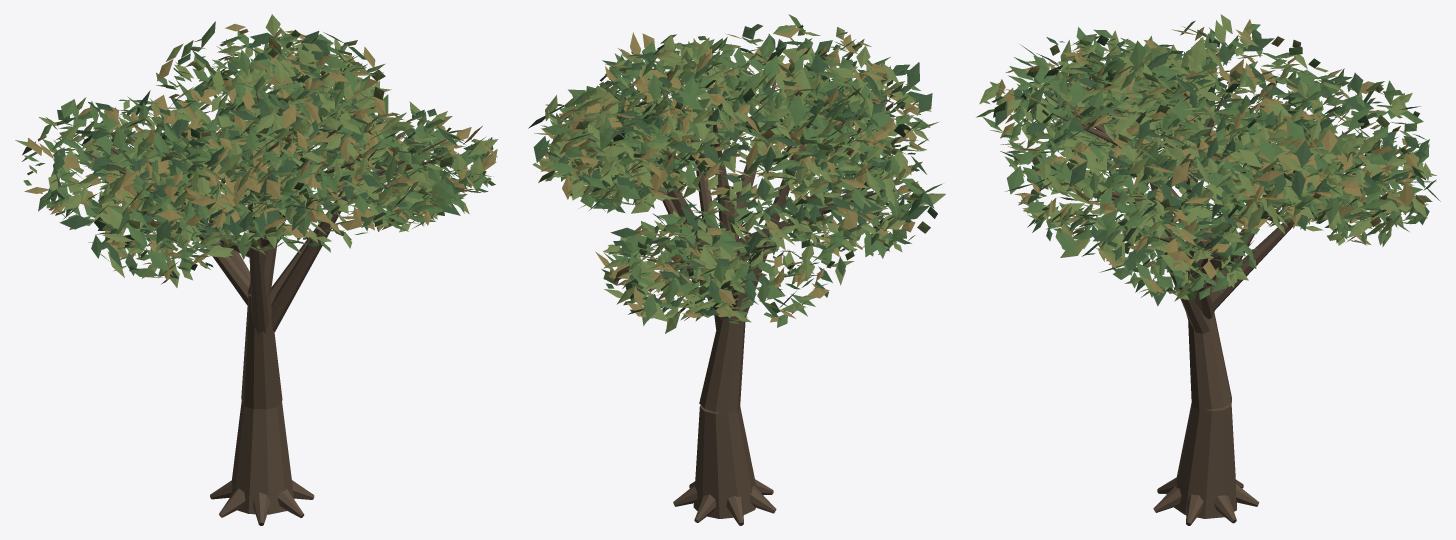
The model's file is chene.glb.
The picture shows the model from 3 angles, left to right: view 1: azimuth 30°, elevation 25°; view 2: azimuth 150°, elevation 25°; view 3: azimuth 270°, elevation 25°; orthographic projection. The views are drawn at different scales.
Visible parts, largest first — view 1: chene_Maillage; view 2: chene_Maillage; view 3: chene_Maillage.
Boxes of the visible parts, x1,y1,x2,y2 form: chene_Maillage: [15, 14, 498, 525]; chene_Maillage: [528, 14, 945, 525]; chene_Maillage: [976, 14, 1440, 525].
Size of the model in its own units: 5.65 by 6.68 by 5.92.
